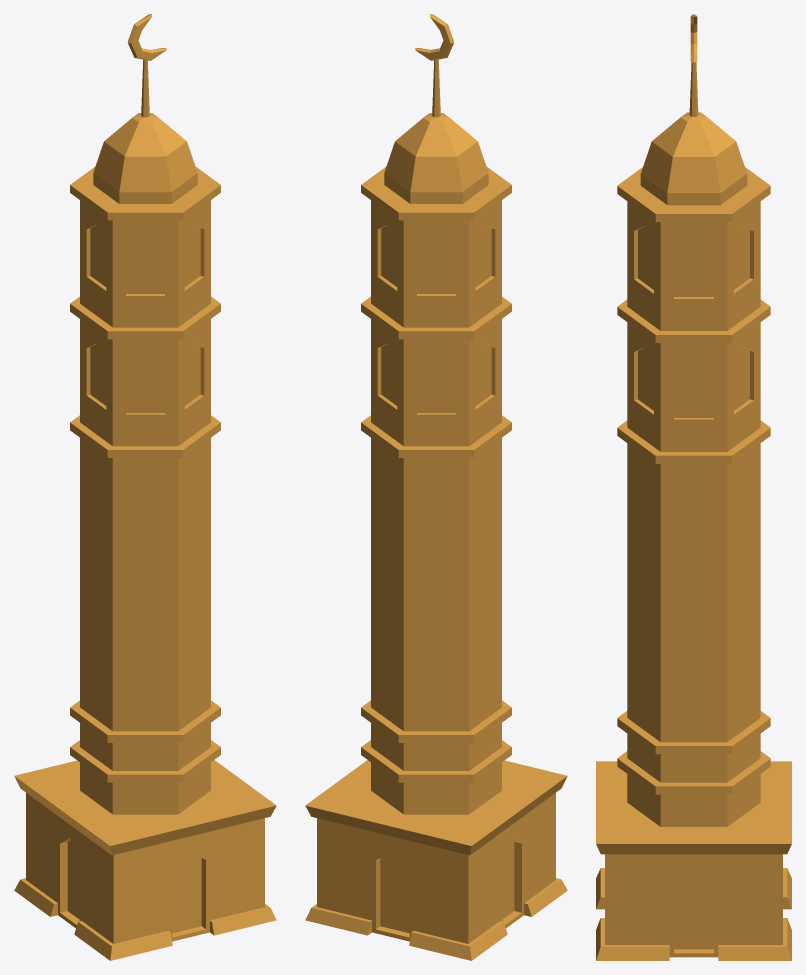
File: mosque-tower.glb
3 views of the same model, side by side, from view 1: azimuth 30°, elevation 25°; view 2: azimuth 150°, elevation 25°; view 3: azimuth 270°, elevation 25° (orthographic).
Parts seen in each view (by area): view 1: mosque-tower; view 2: mosque-tower; view 3: mosque-tower.
Boxes of the visible parts, <box> form: mosque-tower: <box>14,14,276,960</box>; mosque-tower: <box>305,14,567,960</box>; mosque-tower: <box>596,14,791,960</box>.
Bounding box in the file's own units: 4.4 × 22.48 × 4.4.
